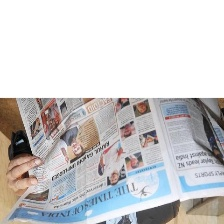news_paper: (0, 97, 223, 223)
